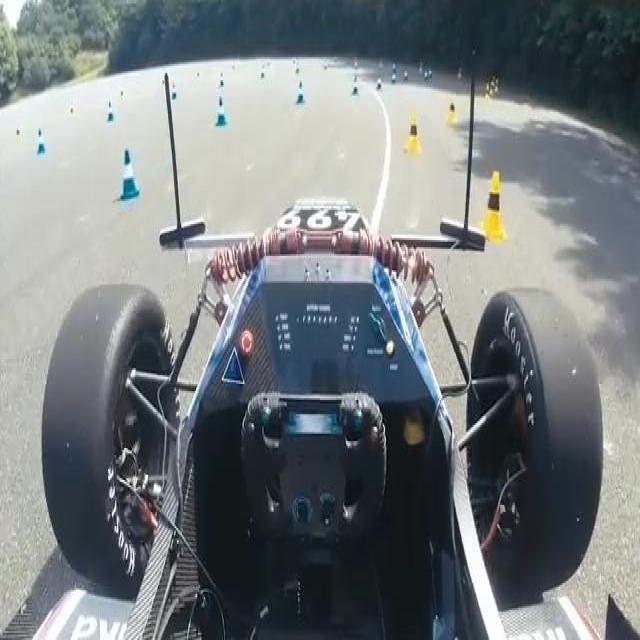blue_cone: (115, 140, 142, 205), (212, 94, 229, 132), (33, 126, 49, 159), (103, 96, 118, 126), (294, 80, 305, 106), (171, 82, 181, 107), (351, 73, 361, 95), (374, 71, 383, 91), (217, 71, 225, 90), (391, 71, 398, 87)
yellow_cone: (477, 164, 510, 241), (403, 110, 423, 158), (445, 98, 459, 131), (15, 123, 25, 147), (494, 75, 503, 98), (483, 82, 492, 105), (68, 103, 78, 121), (488, 78, 496, 100)
